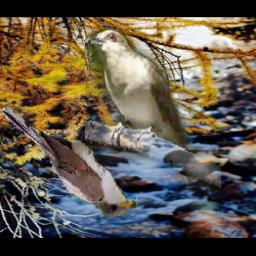Cuckoo: (86, 29, 222, 227), (3, 106, 137, 217)
